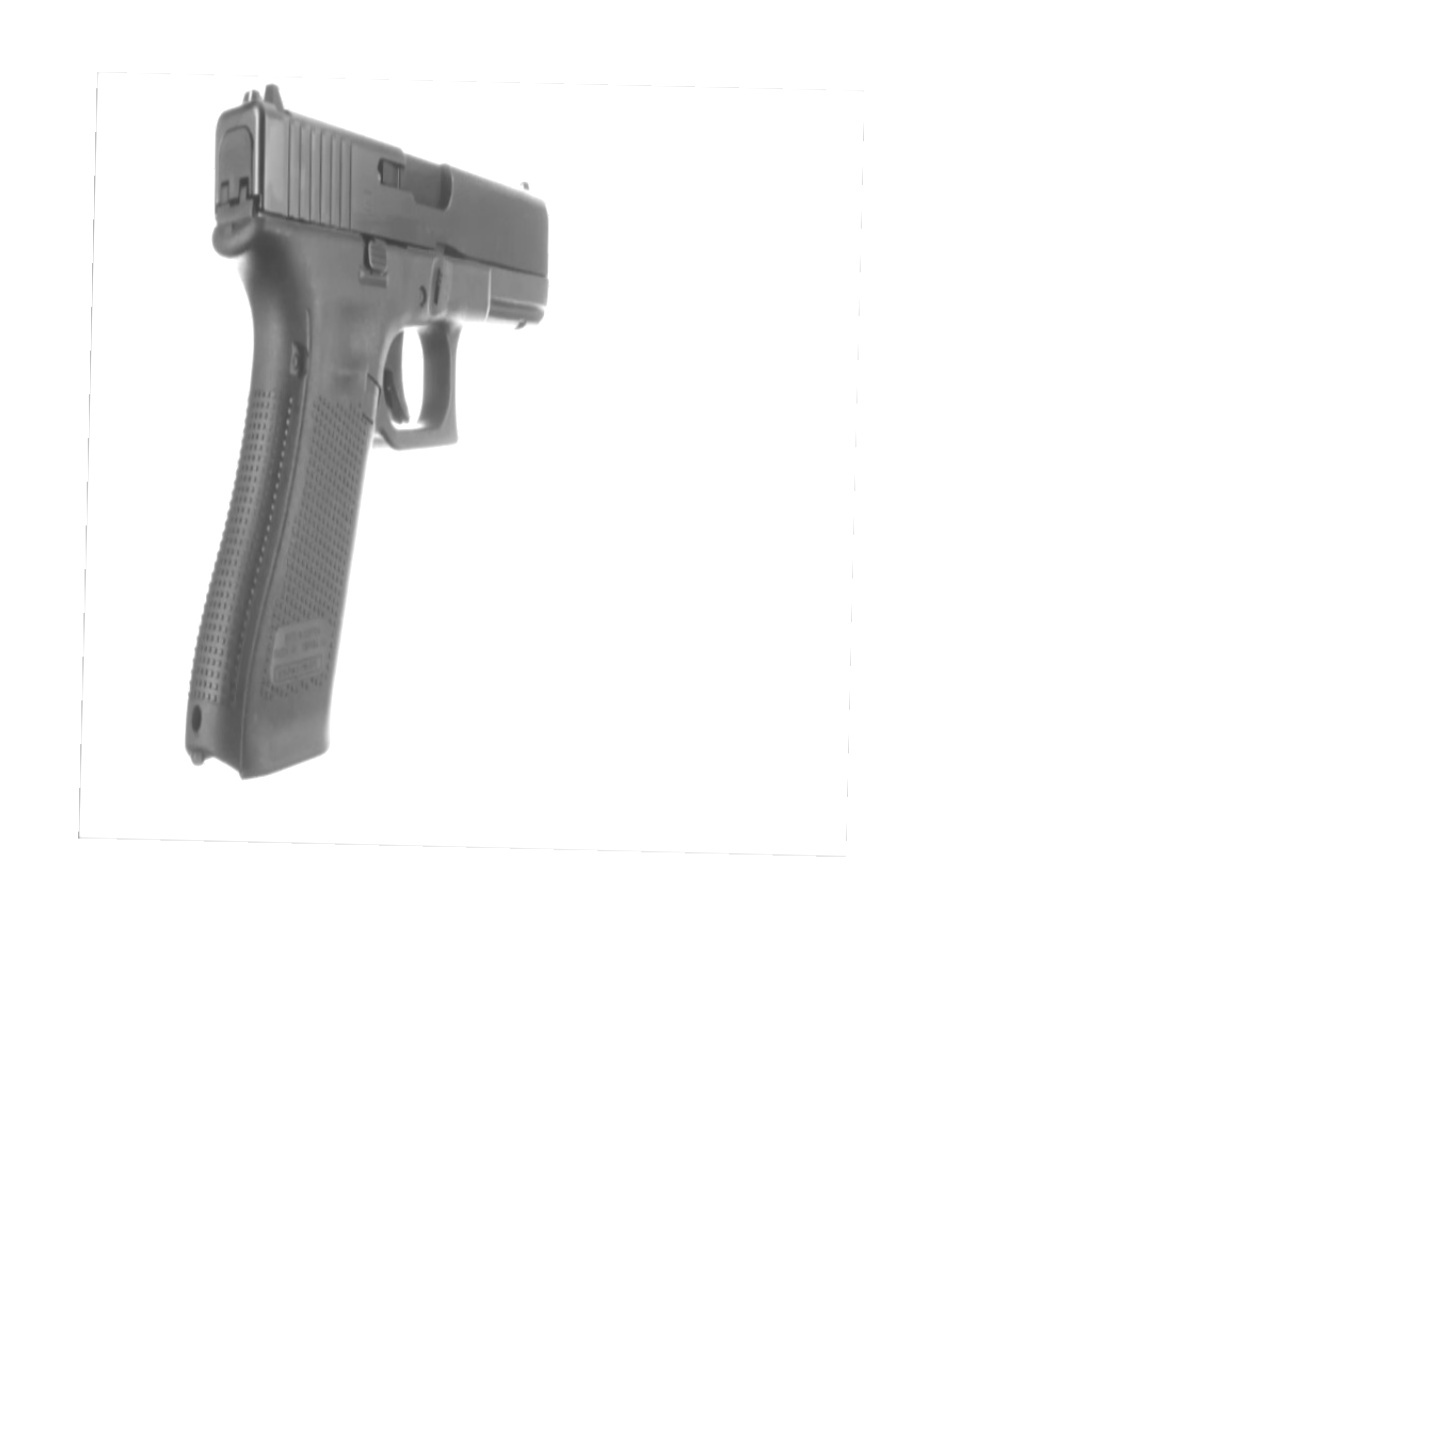gun: (180, 83, 550, 770)
